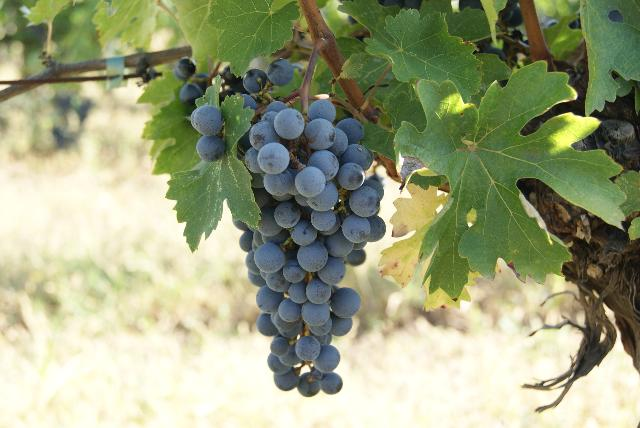grapes: (235, 120, 386, 396)
